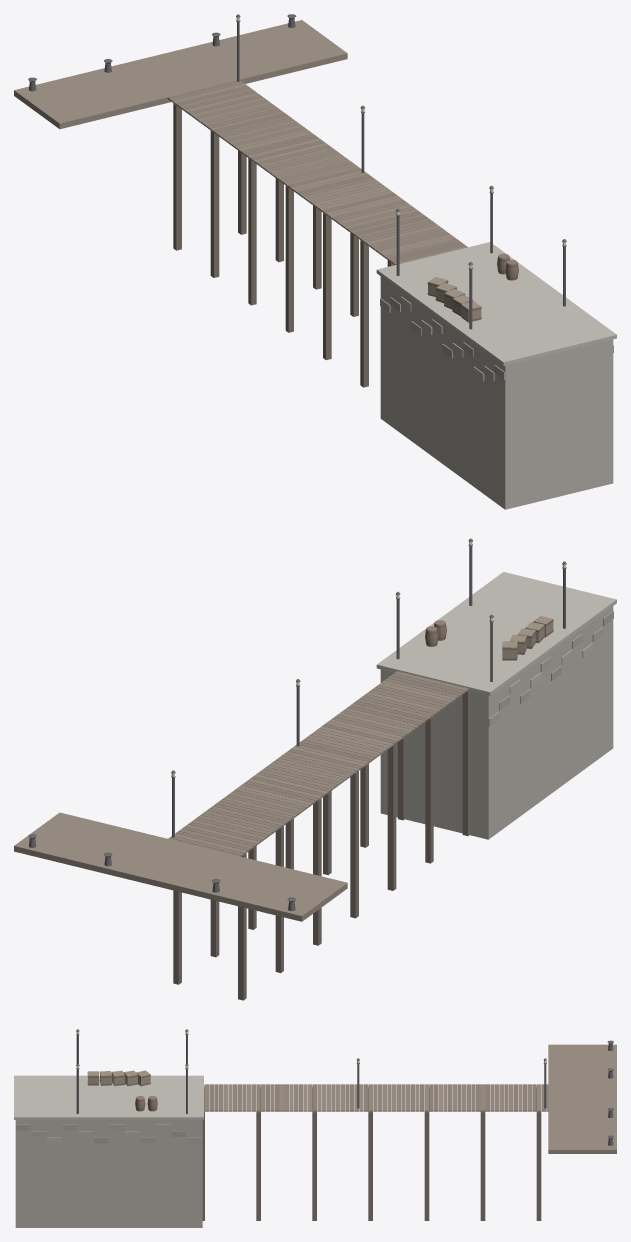
The model's file is dock_4.gltf.
3 views of the same model, one above another, from view 1: azimuth 30°, elevation 25°; view 2: azimuth 150°, elevation 25°; view 3: azimuth 270°, elevation 25° (orthographic). The views are drawn at different scales.
Parts seen in each view (by area): view 1: Body; view 2: Body; view 3: Body.
Part boxes in pixels (x1,y1,x2,y2): Body: (14,14,616,509); Body: (14,538,616,1000); Body: (14,1029,616,1227).
Bounding box in the file's own units: 16 × 11.46 × 38.7.
